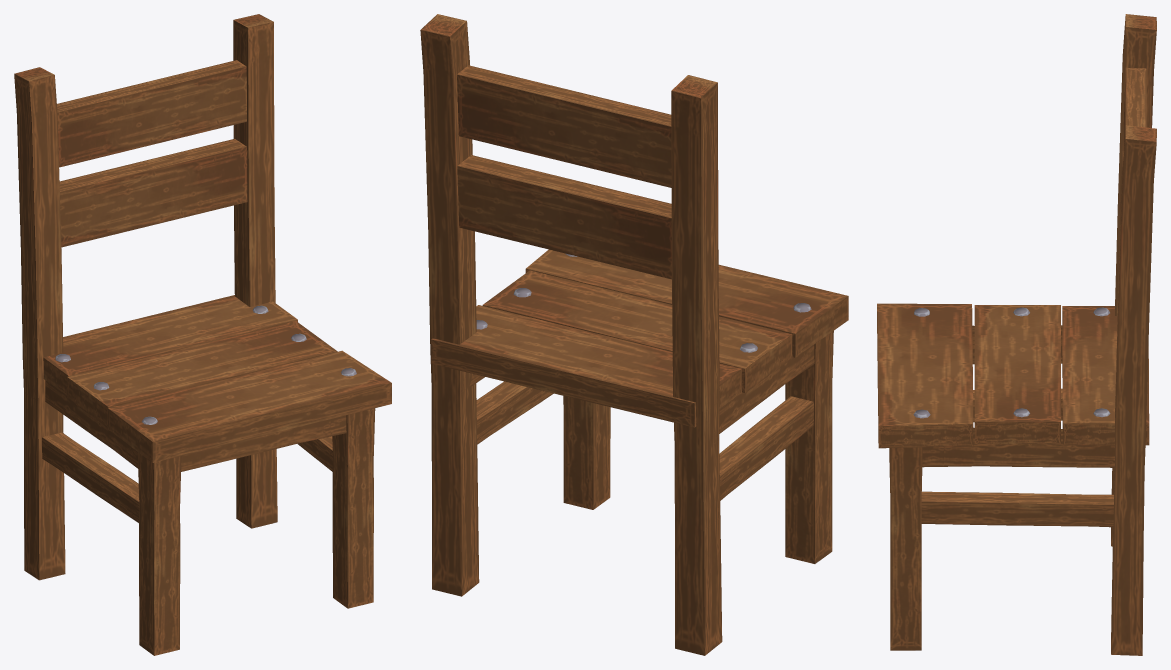
The model's file is Chair_1.fbx.
3 views of the same model, side by side, from view 1: azimuth 30°, elevation 25°; view 2: azimuth 150°, elevation 25°; view 3: azimuth 270°, elevation 25° (orthographic). The views are drawn at different scales.
Visible parts, largest first — view 1: Chair_1; view 2: Chair_1; view 3: Chair_1.
Part boxes in pixels (<box>): Chair_1: <box>14,14,391,655</box>; Chair_1: <box>420,14,848,655</box>; Chair_1: <box>877,14,1156,655</box>.
Size of the model in its own units: 58.05 by 112 by 54.89.
